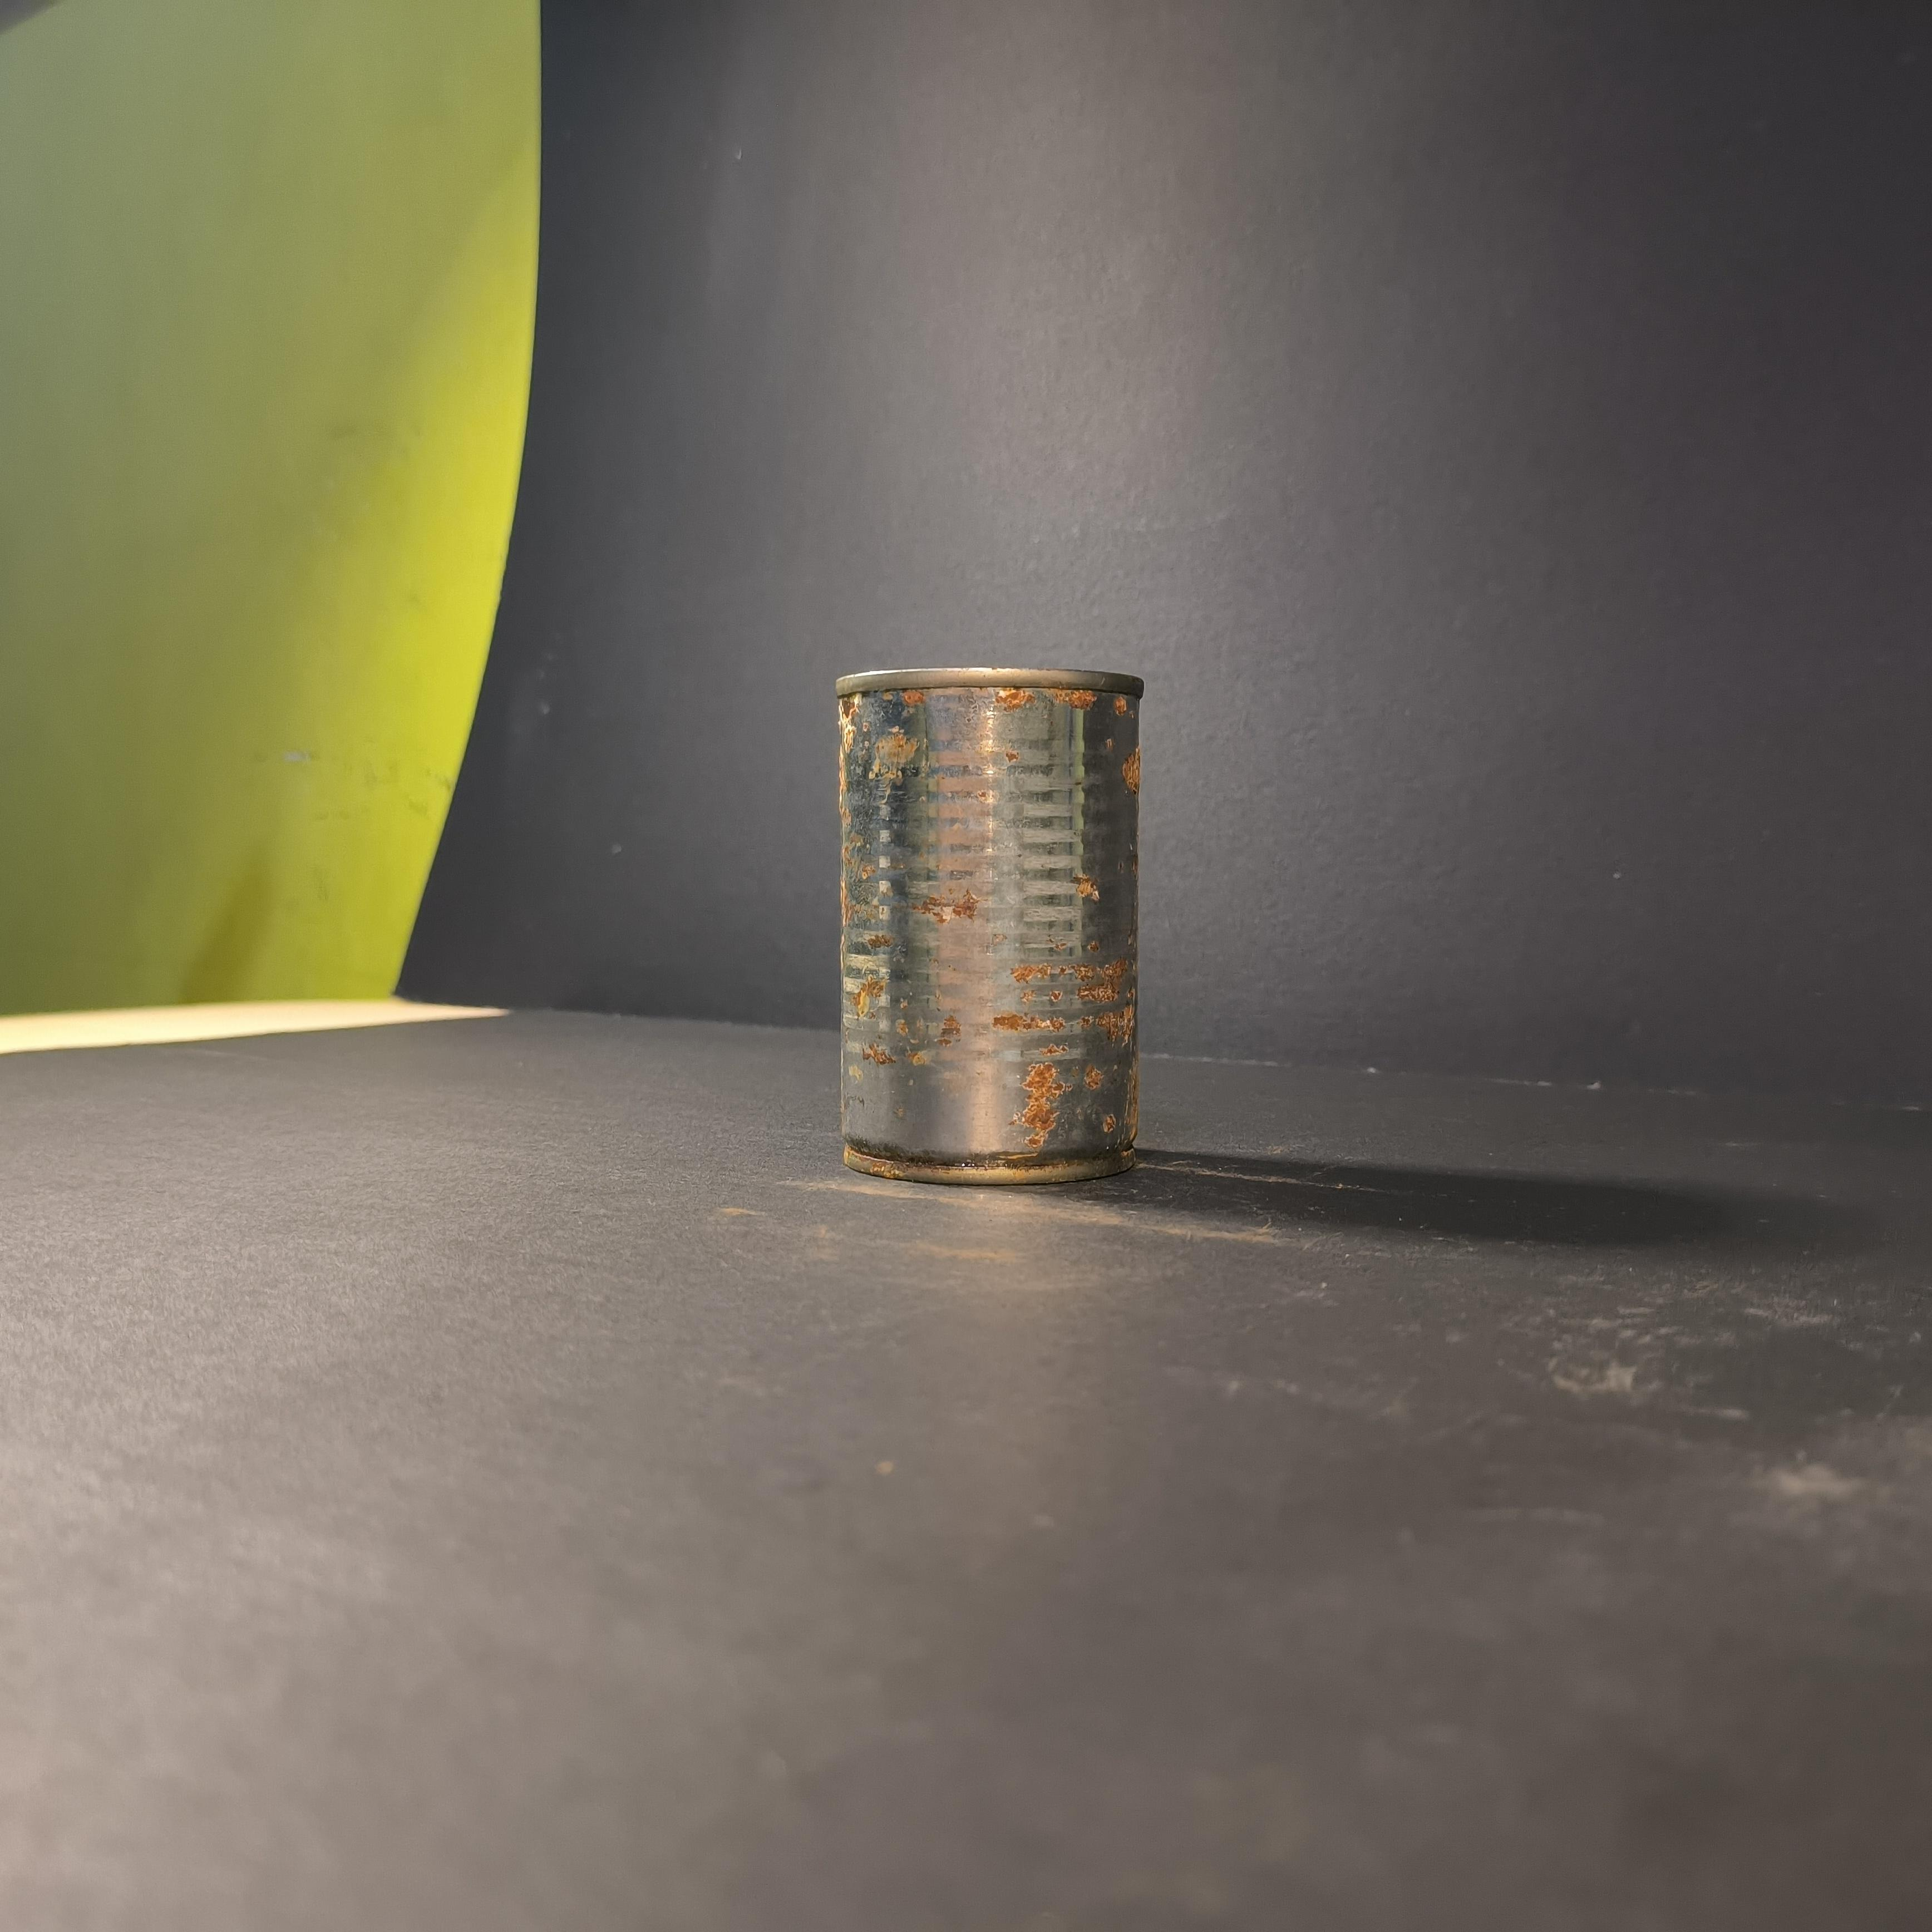Rusted: (823, 637, 1175, 1200)
